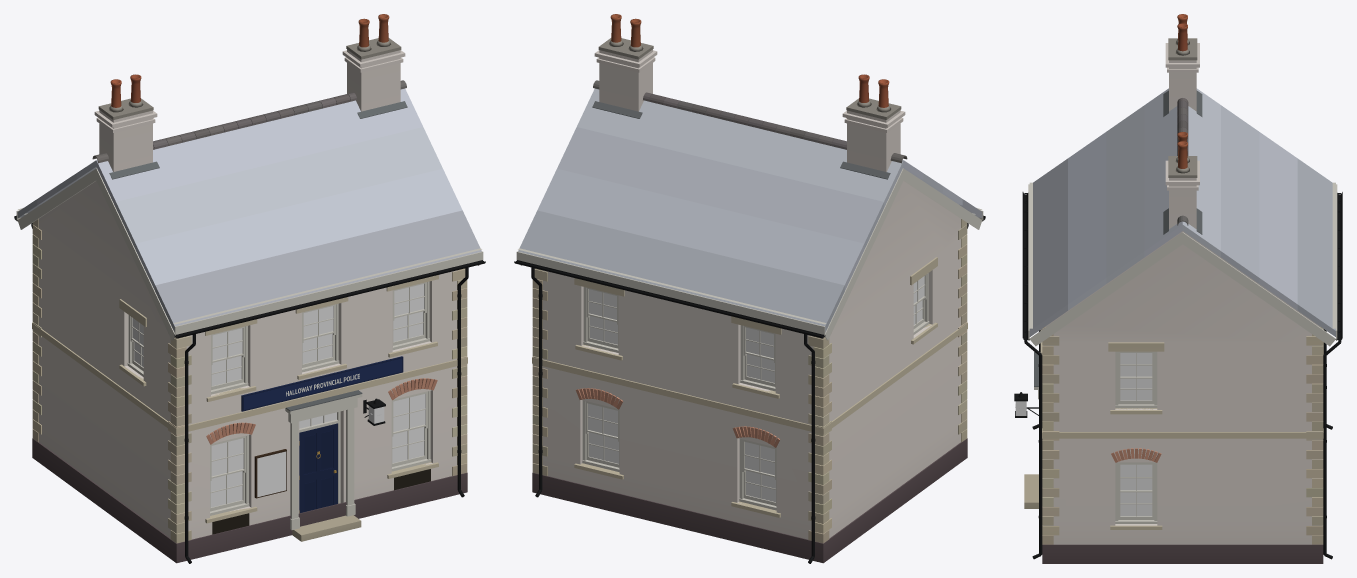
Rendered from town_police_house_a.glb.
3 renders of one model, left to right at view 1: azimuth 30°, elevation 25°; view 2: azimuth 150°, elevation 25°; view 3: azimuth 270°, elevation 25°, orthographic. The views are drawn at different scales.
Parts seen in each view (by area): view 1: body, door; view 2: body; view 3: body.
Boxes of the visible parts, x1=… form: body: x1=14, y1=14, x2=485, y2=563; door: x1=299, y1=423, x2=337, y2=513; body: x1=514, y1=14, x2=985, y2=563; body: x1=1022, y1=14, x2=1342, y2=563.
Size of what is drawn, in the model's own units: 7.47 by 9.86 by 7.07.
